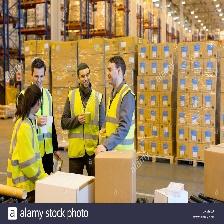no-helmet: (105, 53, 126, 75), (24, 82, 43, 105), (29, 55, 47, 77), (74, 61, 93, 75)
person: (62, 62, 105, 170), (12, 85, 49, 188), (101, 49, 138, 145), (28, 58, 58, 164)
vest: (12, 110, 46, 186), (64, 84, 99, 156), (105, 82, 136, 149), (35, 93, 57, 155)
